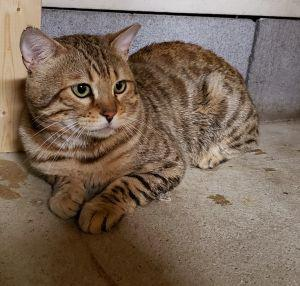bengal: (16, 19, 150, 142)
